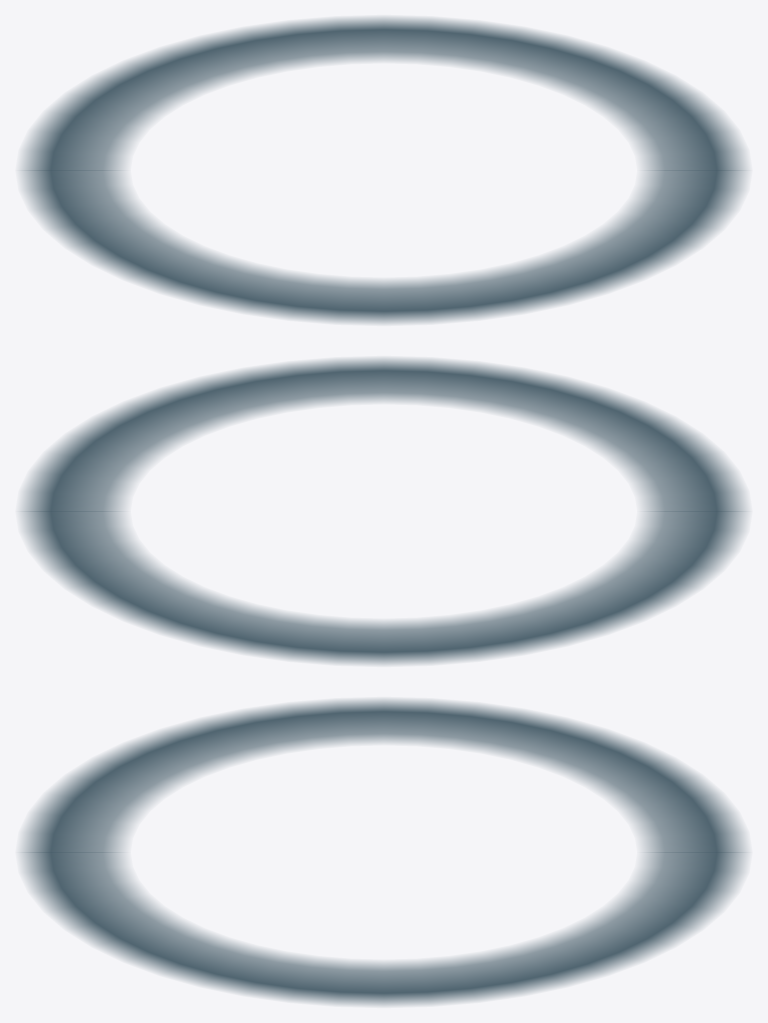
File: shi-daze-rain-vfx-v1-ripple-lod0.glb
3 renders of one model, top to bottom at view 1: azimuth 30°, elevation 25°; view 2: azimuth 150°, elevation 25°; view 3: azimuth 270°, elevation 25°, orthographic.
Parts seen in each view (by area): view 1: SM_SHI_RainRipple_01_LOD0; view 2: SM_SHI_RainRipple_01_LOD0; view 3: SM_SHI_RainRipple_01_LOD0.
Part boxes in pixels (x1,y1,x2,y2): SM_SHI_RainRipple_01_LOD0: (19, 17, 748, 323); SM_SHI_RainRipple_01_LOD0: (19, 358, 748, 664); SM_SHI_RainRipple_01_LOD0: (19, 699, 748, 1005).
Bounding box in the file's own units: 1 × 0 × 1.
